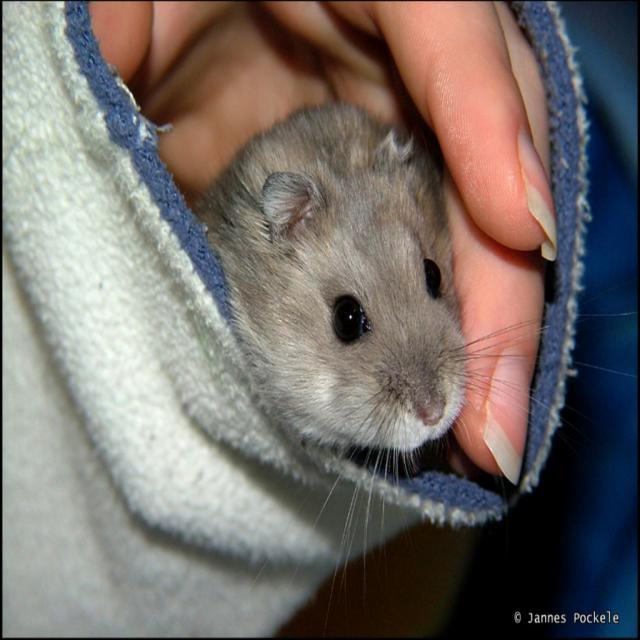rat: (208, 106, 472, 456)
